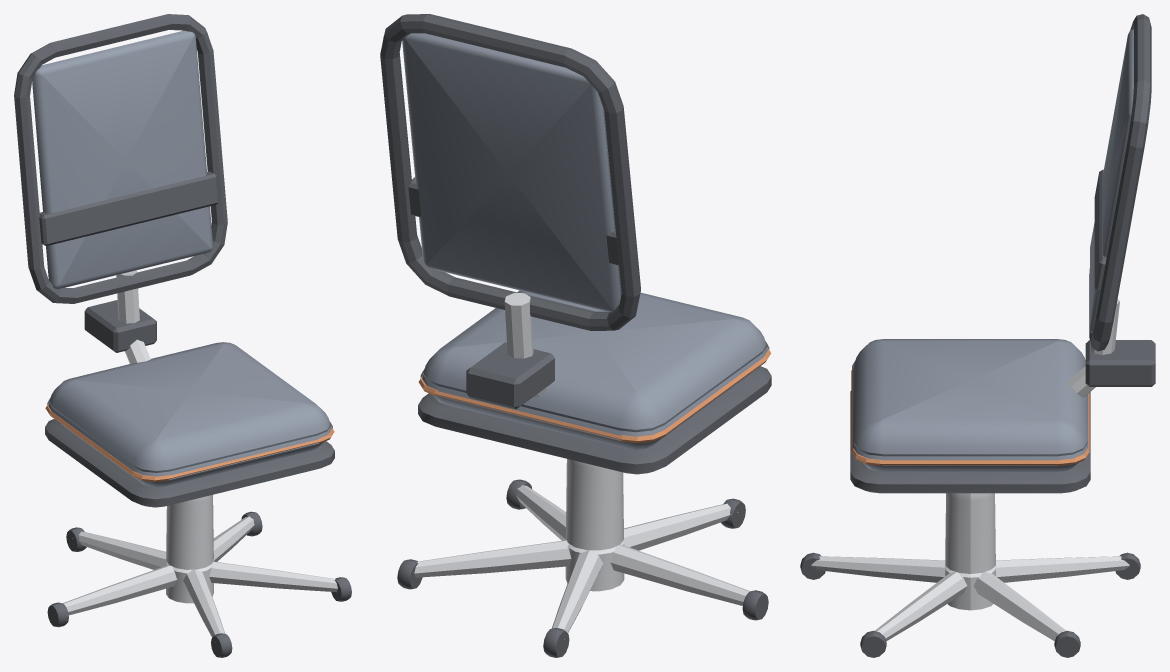
File: downtown-office-interiors-task-chair-mesh-armless-c4818d2e__16980.glb
3 renders of one model, left to right at view 1: azimuth 30°, elevation 25°; view 2: azimuth 150°, elevation 25°; view 3: azimuth 270°, elevation 25°, orthographic. The views are drawn at different scales.
Parts seen in each view (by area): view 1: task-chair-mesh-armless; view 2: task-chair-mesh-armless; view 3: task-chair-mesh-armless.
Part boxes in pixels (box(x1,y1,x2,y2)): task-chair-mesh-armless: box(14, 14, 351, 657); task-chair-mesh-armless: box(380, 14, 771, 657); task-chair-mesh-armless: box(800, 14, 1155, 657).
Bounding box in the file's own units: 0.6231 × 1.21 × 0.7102.
